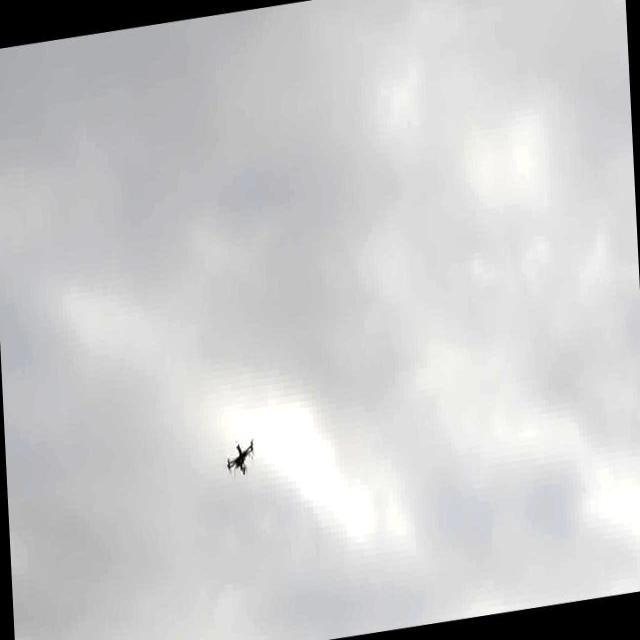drone: (222, 434, 258, 482)
